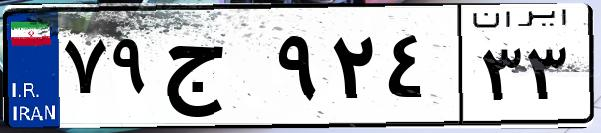2: (330, 28, 385, 110)
3: (475, 38, 525, 113), (525, 38, 570, 115)
4: (385, 28, 445, 110)
7: (57, 26, 110, 100)
9: (270, 28, 330, 110), (110, 28, 158, 98)
ج: (158, 20, 270, 120)
